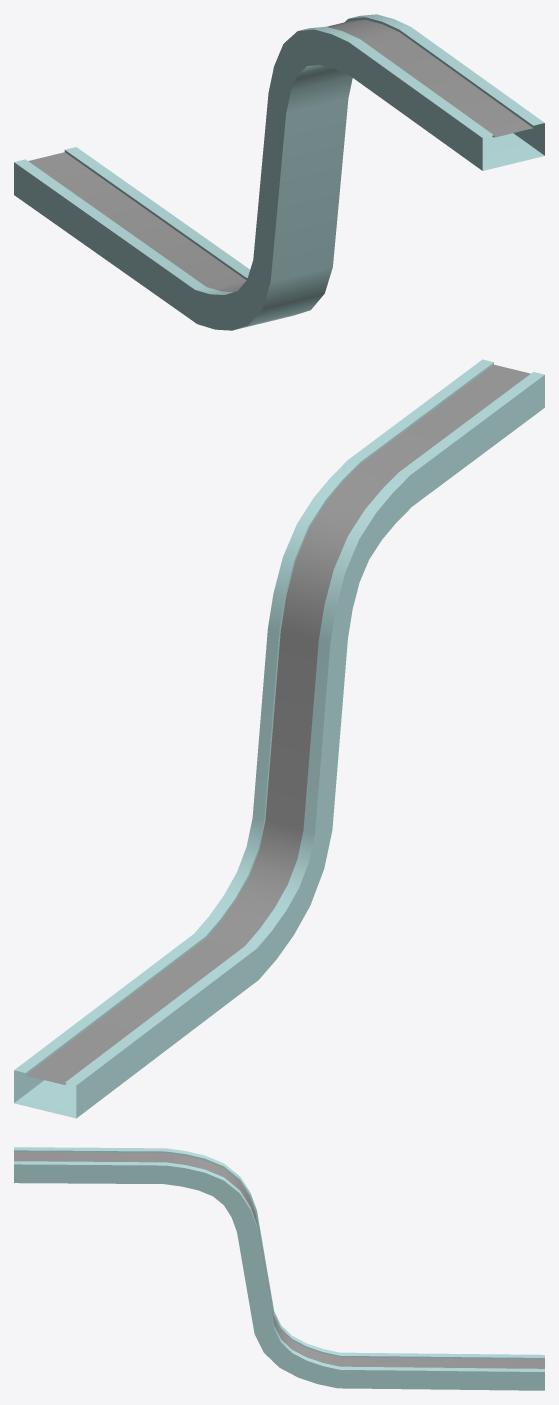
The picture shows the model from 3 angles, top to bottom: view 1: azimuth 30°, elevation 25°; view 2: azimuth 150°, elevation 25°; view 3: azimuth 270°, elevation 25°; orthographic projection. The views are drawn at different scales.
Visible parts, largest first — view 1: up; view 2: up; view 3: up.
Part boxes in pixels (box(x1,y1,x2,y2)): up: box(14, 14, 544, 330); up: box(14, 359, 544, 1118); up: box(14, 1147, 544, 1390).
Bounding box in the file's own units: 205 × 1245 × 2645.
